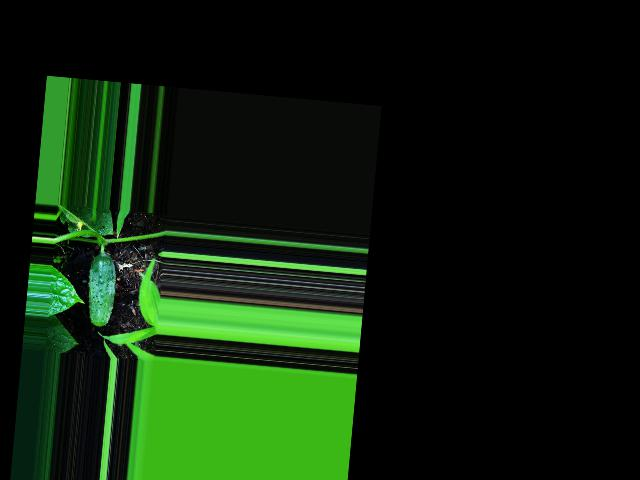cucumber: (84, 252, 119, 329)
